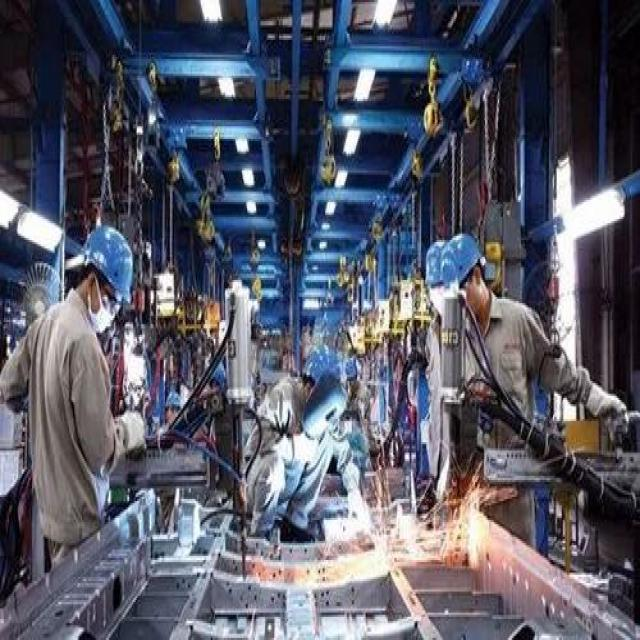Safety-Helmet: (69, 215, 140, 316), (441, 225, 492, 299)
